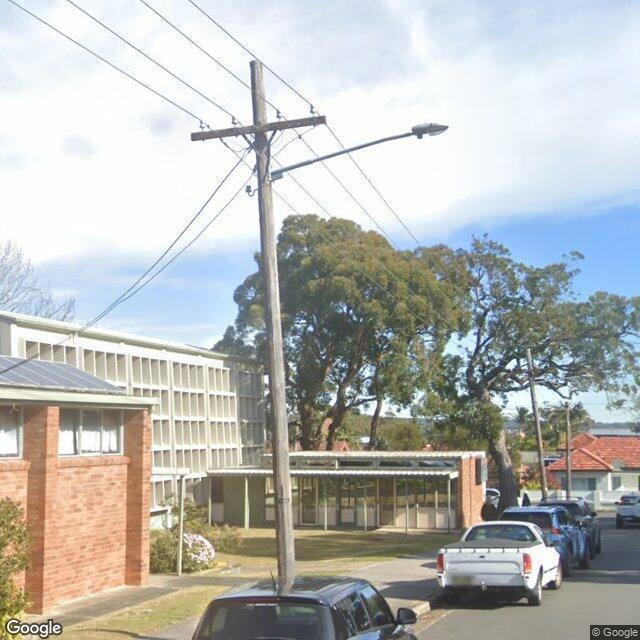crossarm: (191, 114, 327, 142)
streetlight: (270, 121, 448, 178), (536, 374, 594, 384)
timber-pole: (248, 57, 297, 576), (526, 349, 549, 502), (566, 408, 574, 501)
